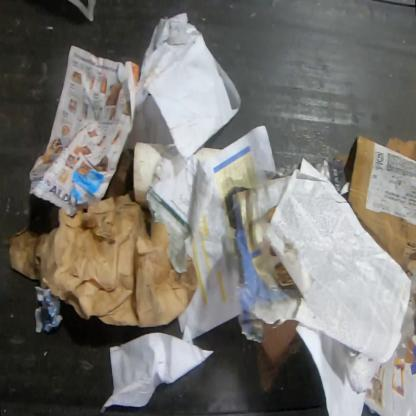cardboard: (347, 134, 415, 278), (254, 320, 304, 392), (133, 142, 168, 207), (386, 137, 416, 162)
